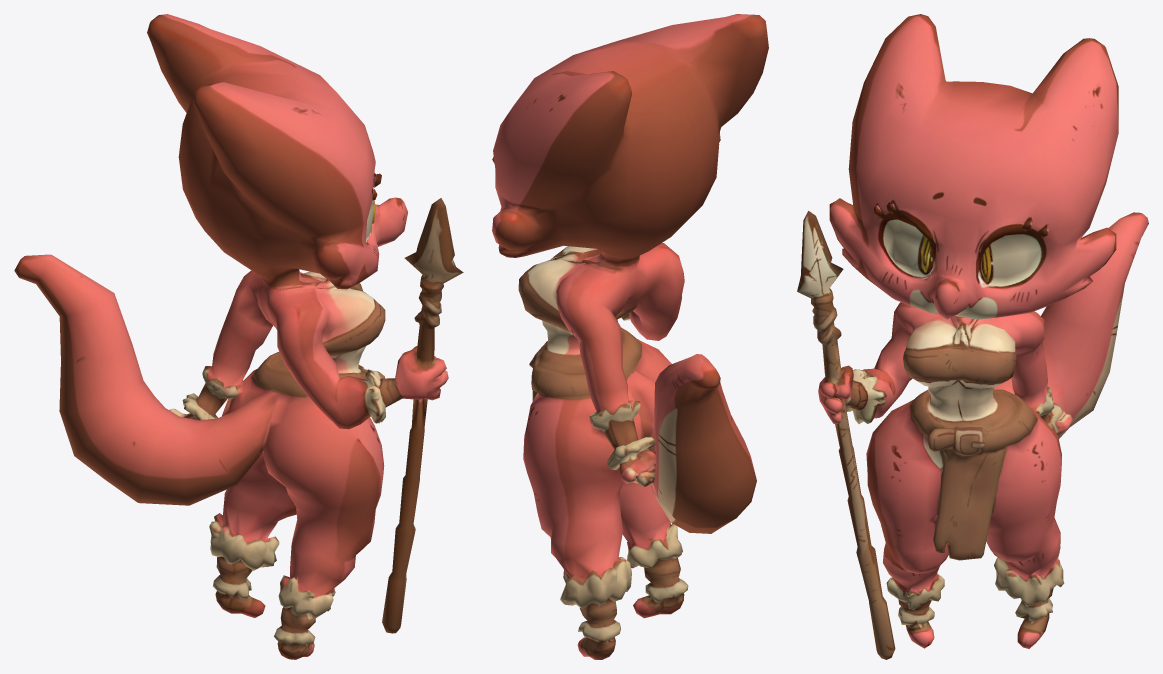
Rendered from unit_01.glb.
3 renders of one model, left to right at view 1: azimuth 30°, elevation 25°; view 2: azimuth 150°, elevation 25°; view 3: azimuth 270°, elevation 25°, orthographic. The views are drawn at different scales.
Parts seen in each view (by area): view 1: Object_01; view 2: Object_01; view 3: Object_01.
Boxes of the visible parts, <box> form: Object_01: <box>14,14,463,659</box>; Object_01: <box>492,14,768,659</box>; Object_01: <box>797,14,1148,659</box>.
Bounding box in the file's own units: 0.8172 × 1.6 × 0.8736.
1 material, 1 textured.
